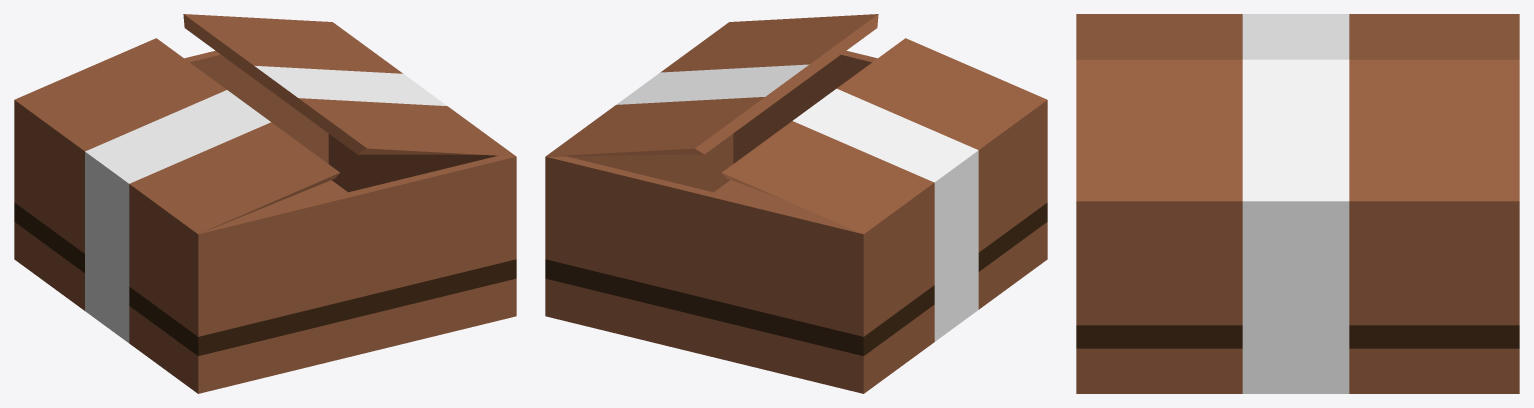
The model's file is destructible-cartoonbox3.obj.
The picture shows the model from 3 angles, left to right: view 1: azimuth 30°, elevation 25°; view 2: azimuth 150°, elevation 25°; view 3: azimuth 270°, elevation 25°; orthographic projection. The views are drawn at different scales.
Parts seen in each view (by area): view 1: Cube.001; view 2: Cube.001; view 3: Cube.001.
Boxes of the visible parts, box(x1,y1,x2,y2) form: Cube.001: box(14, 14, 516, 393); Cube.001: box(545, 14, 1047, 393); Cube.001: box(1076, 14, 1519, 393).
Bounding box in the file's own units: 2 × 1.23 × 2.
